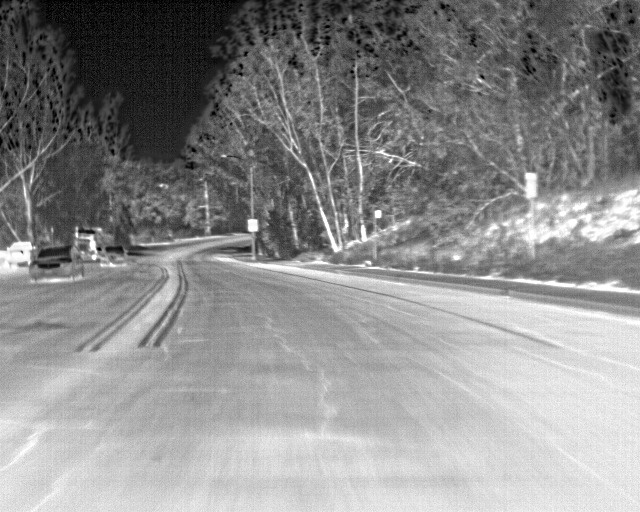vehicle: (29, 243, 85, 283)
